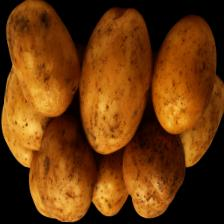potato: (74, 0, 156, 156), (0, 0, 83, 119), (146, 9, 218, 136), (31, 110, 99, 223), (118, 117, 187, 220)
